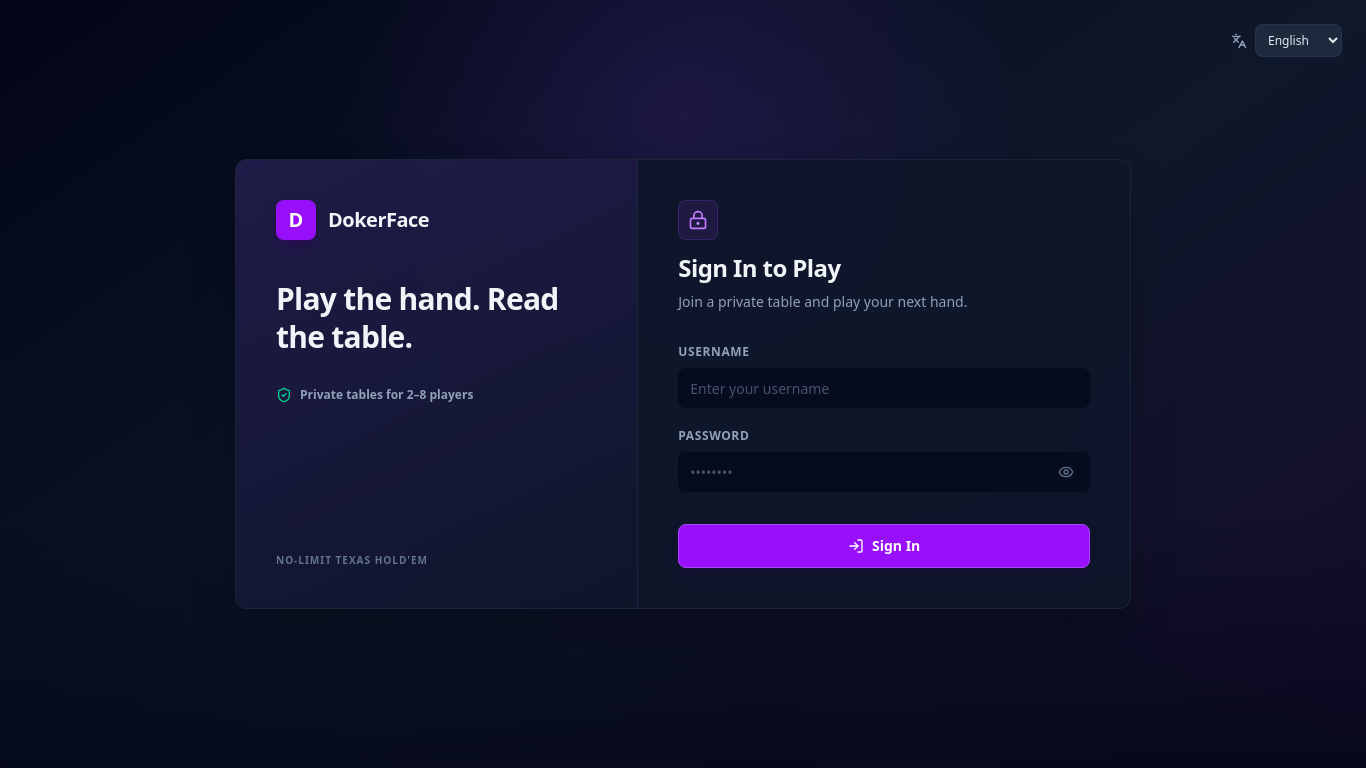
it: Login page localization › renders Chinese copy and a local validation message in Chinese
Expected: the heading "Sign In to Play" is shown, [678, 251, 840, 284]
Select "简体中文" in the dropdown named "Change language". click: (1298, 40)
box: [1255, 24, 1342, 57]
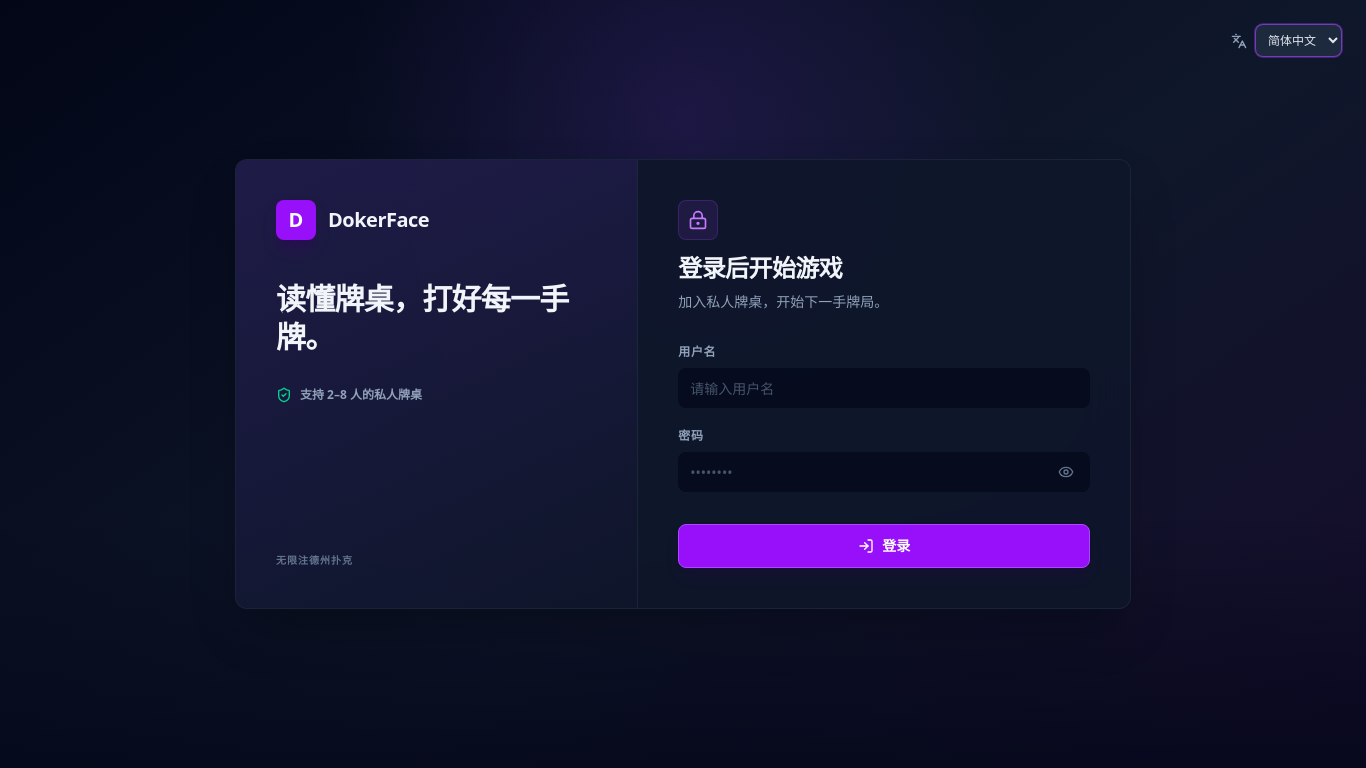
Result: the heading "登录后开始游戏" is shown at [678, 251, 842, 284]
Result: the text "用户名" is shown at [678, 343, 716, 360]
Result: the field with placeholder "请输入用户名" is shown at [678, 368, 1090, 408]
Click the button "登录". click: (884, 546)
box: [678, 524, 1090, 568]
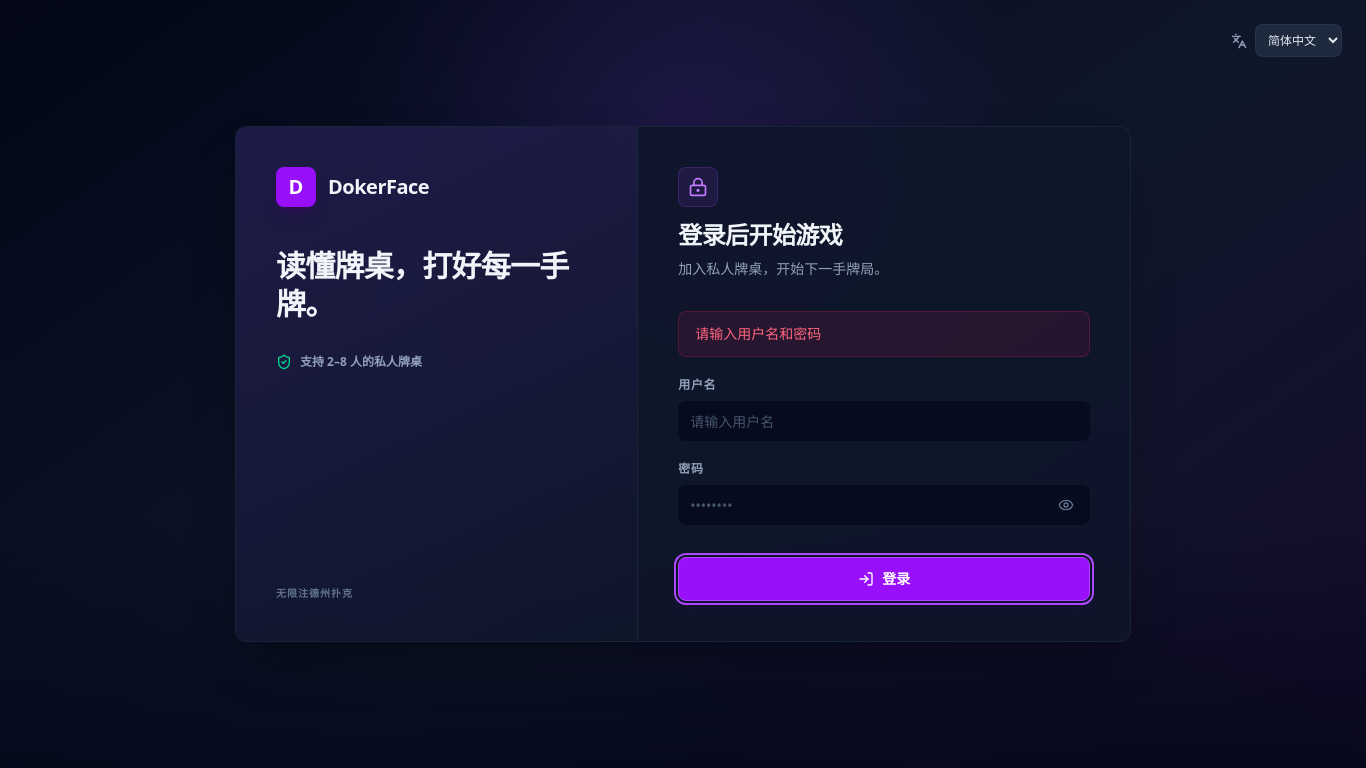
Result: the text "请输入用户名和密码" is shown at [678, 311, 1090, 357]
